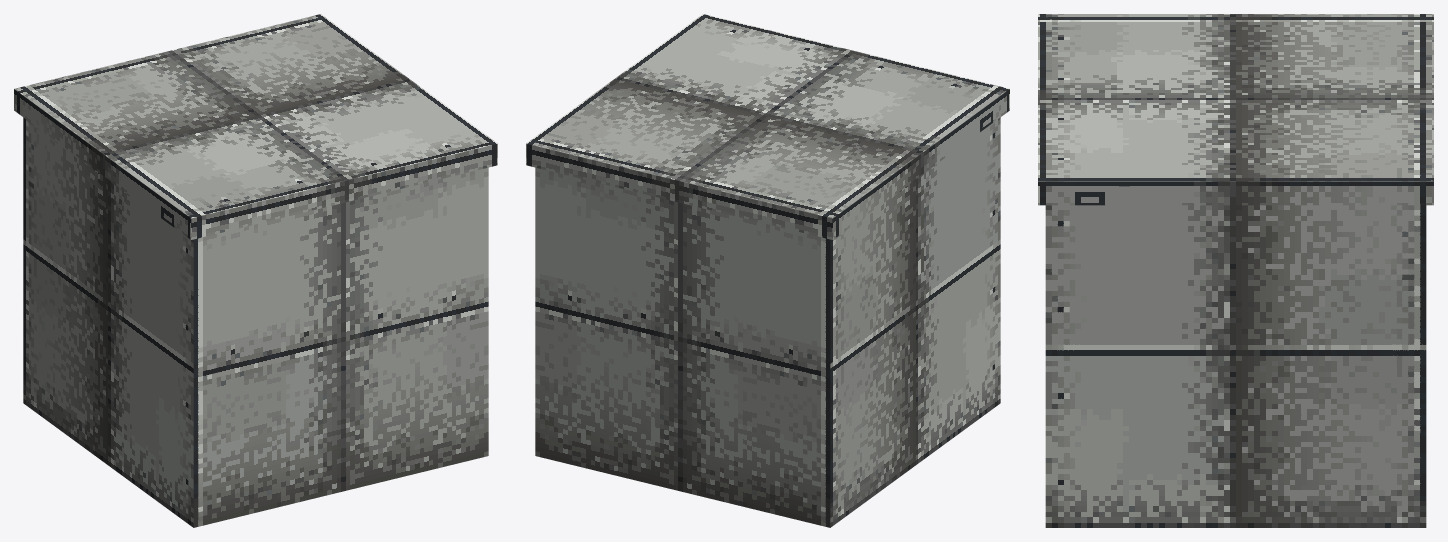
The model's file is prop_crate.glb.
The picture shows the model from 3 angles, left to right: view 1: azimuth 30°, elevation 25°; view 2: azimuth 150°, elevation 25°; view 3: azimuth 270°, elevation 25°; orthographic projection. The views are drawn at different scales.
Parts seen in each view (by area): view 1: prop_crate; view 2: prop_crate; view 3: prop_crate.
Part boxes in pixels (<box>): prop_crate: <box>14,14,497,527</box>; prop_crate: <box>526,14,1009,527</box>; prop_crate: <box>1038,14,1433,527</box>.
Bounding box in the file's own units: 1.04 × 1.01 × 1.04.
1 material, 1 textured.
